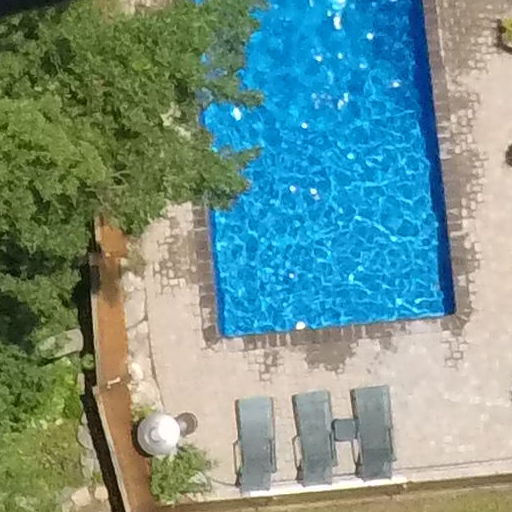pool: (163, 1, 489, 355)
